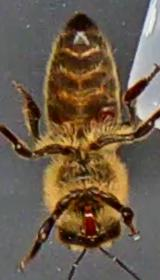varroa_mite: (92, 106, 120, 126)
